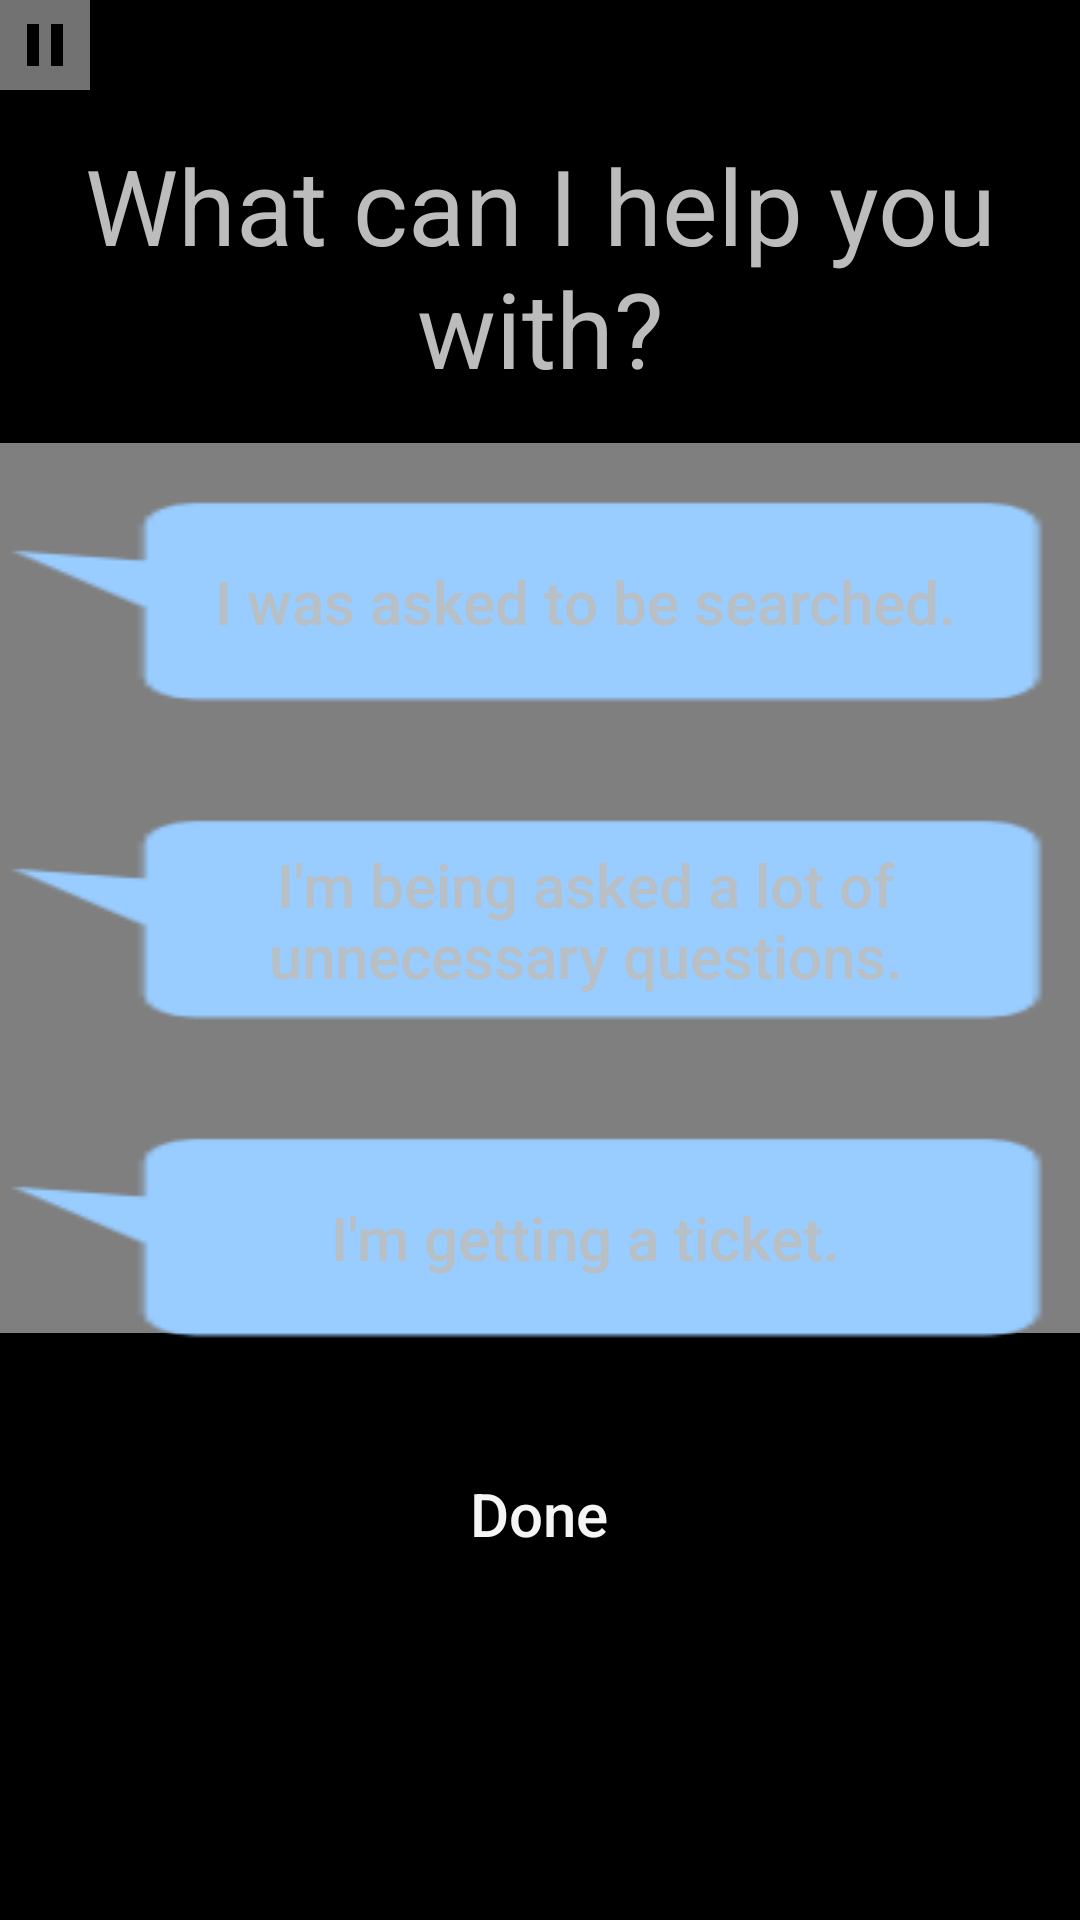

Named icons in this screenshot (1080px x 1920px) and their centers, (x=x, y=y):
pause: (x=45, y=45)
